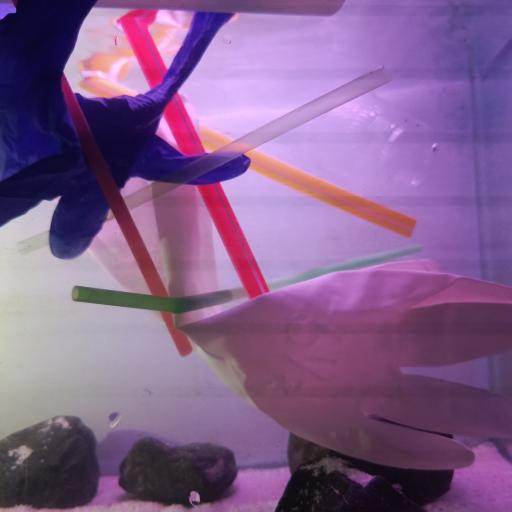glove: (88, 171, 512, 471), (0, 0, 251, 262)
plastic_cup: (300, 91, 437, 193)
plastic_straw: (16, 64, 392, 258), (76, 72, 418, 240), (119, 17, 270, 301), (61, 72, 193, 357), (71, 243, 422, 314)
